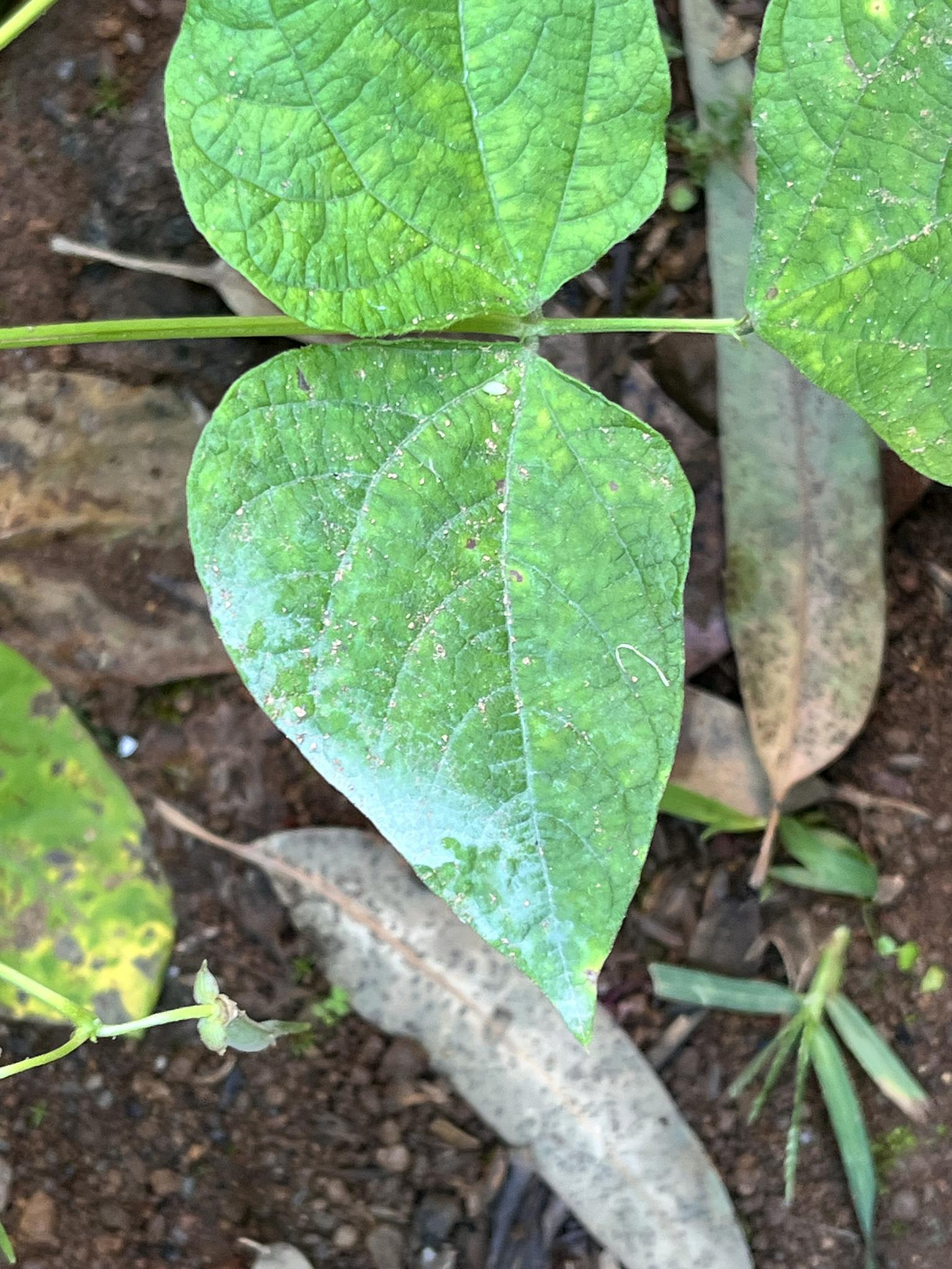embun tepung: (175, 457, 608, 1057)
